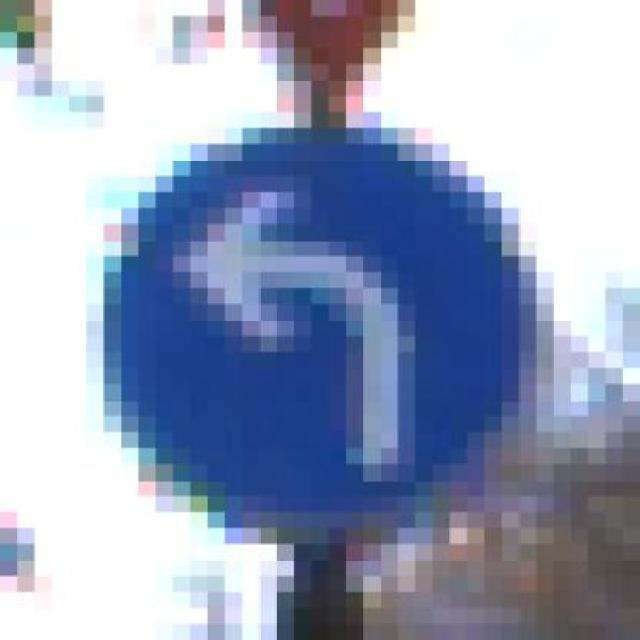Turn left ahead: (86, 96, 554, 529)
